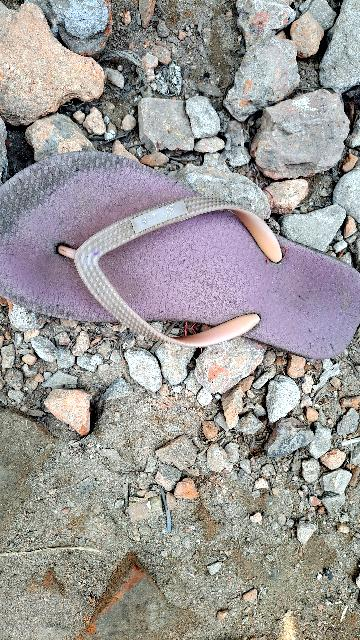sandal: (0, 139, 360, 428)
